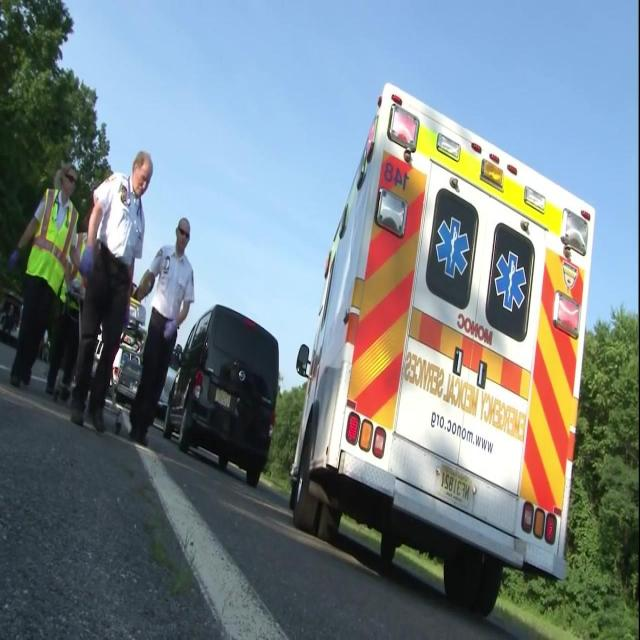Reflective-Jacket: (19, 184, 86, 318), (87, 176, 149, 280)
Safety-Helmet: (124, 140, 160, 199), (51, 151, 83, 195), (171, 209, 195, 249)
